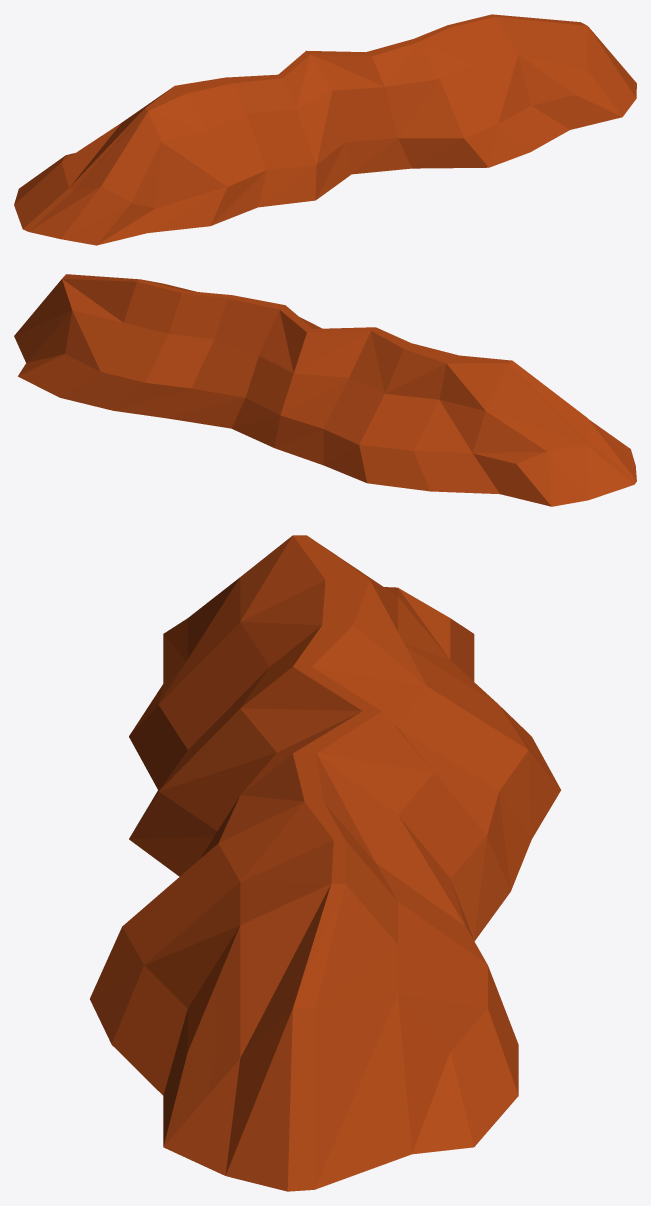
The model's file is Hill_desert_003.glb.
The picture shows the model from 3 angles, top to bottom: view 1: azimuth 30°, elevation 25°; view 2: azimuth 150°, elevation 25°; view 3: azimuth 270°, elevation 25°; orthographic projection. The views are drawn at different scales.
Parts seen in each view (by area): view 1: Hill_desert_003; view 2: Hill_desert_003; view 3: Hill_desert_003.
Part boxes in pixels (x1,y1,x2,y2): Hill_desert_003: (14,14,636,245); Hill_desert_003: (14,274,636,506); Hill_desert_003: (90,535,560,1191).
Size of the model in its own units: 55.65 by 7.87 by 18.62.
